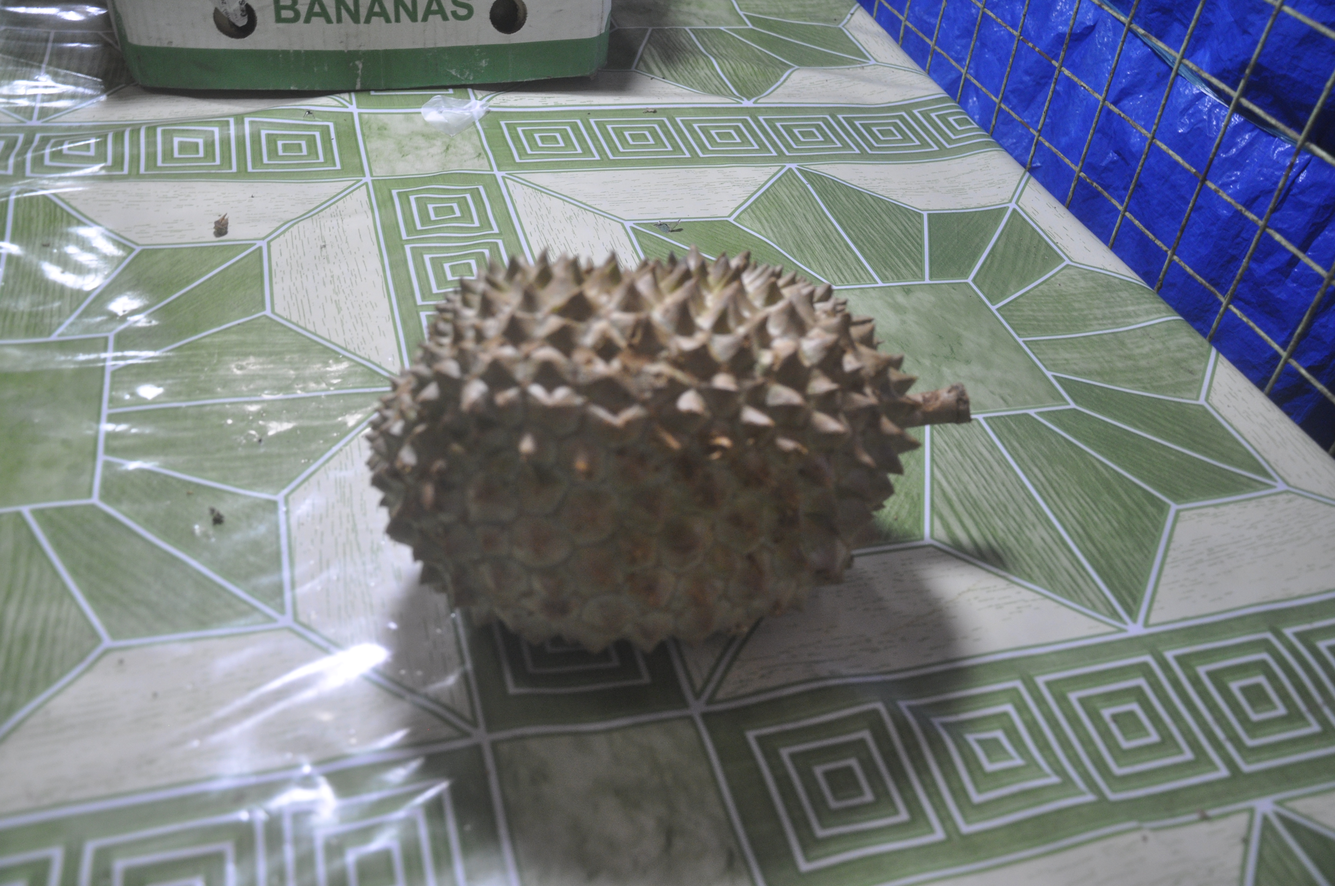mature: (367, 249, 969, 650)
